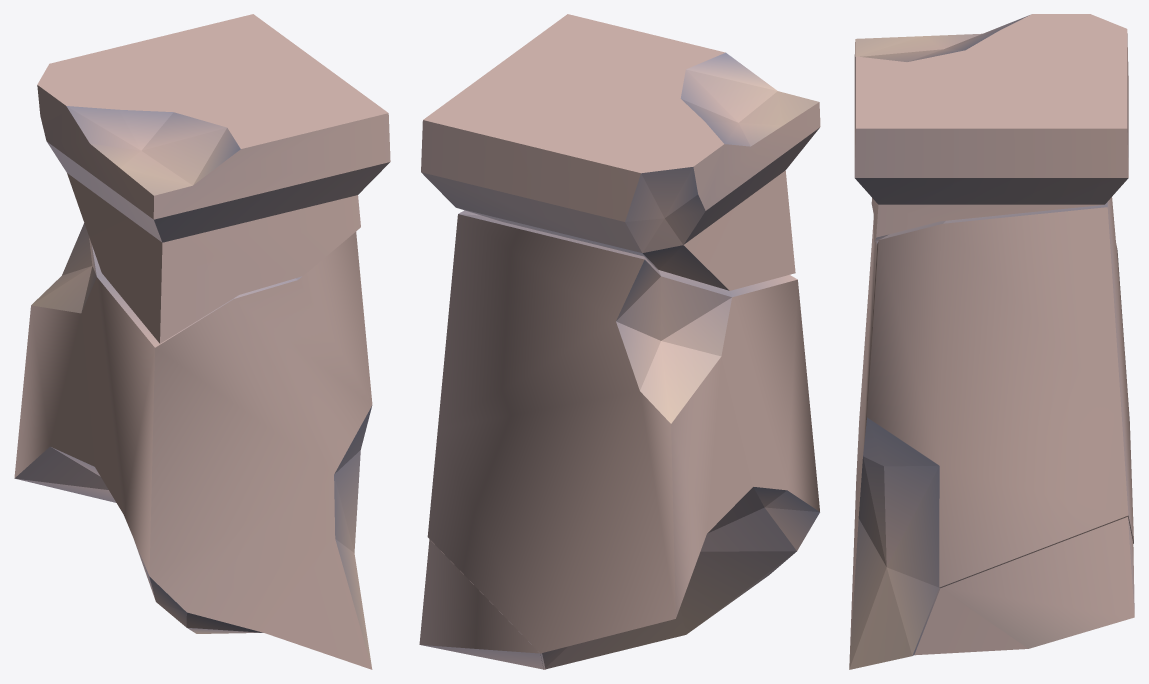
Rendered from SquarePillarPieces.gltf.
3 renders of one model, left to right at view 1: azimuth 30°, elevation 25°; view 2: azimuth 150°, elevation 25°; view 3: azimuth 270°, elevation 25°, orthographic. The views are drawn at different scales.
Visible parts, largest first — view 1: SquarePillarPiece2Mesh, SquarePillarPiece1Mesh; view 2: SquarePillarPiece2Mesh, SquarePillarPiece1Mesh, SquarePillarPiece3Mesh; view 3: SquarePillarPiece2Mesh, SquarePillarPiece1Mesh, SquarePillarPiece3Mesh.
Part boxes in pixels (box(x1,y1,x2,y2)): SquarePillarPiece2Mesh: box(14, 223, 372, 669); SquarePillarPiece1Mesh: box(37, 14, 390, 343); SquarePillarPiece2Mesh: box(427, 210, 819, 669); SquarePillarPiece1Mesh: box(421, 14, 820, 290); SquarePillarPiece3Mesh: box(419, 539, 545, 669); SquarePillarPiece2Mesh: box(849, 197, 1133, 669); SquarePillarPiece1Mesh: box(854, 14, 1128, 242); SquarePillarPiece3Mesh: box(914, 517, 1134, 655).
Size of the model in its own units: 1.38 by 3.02 by 1.42.
